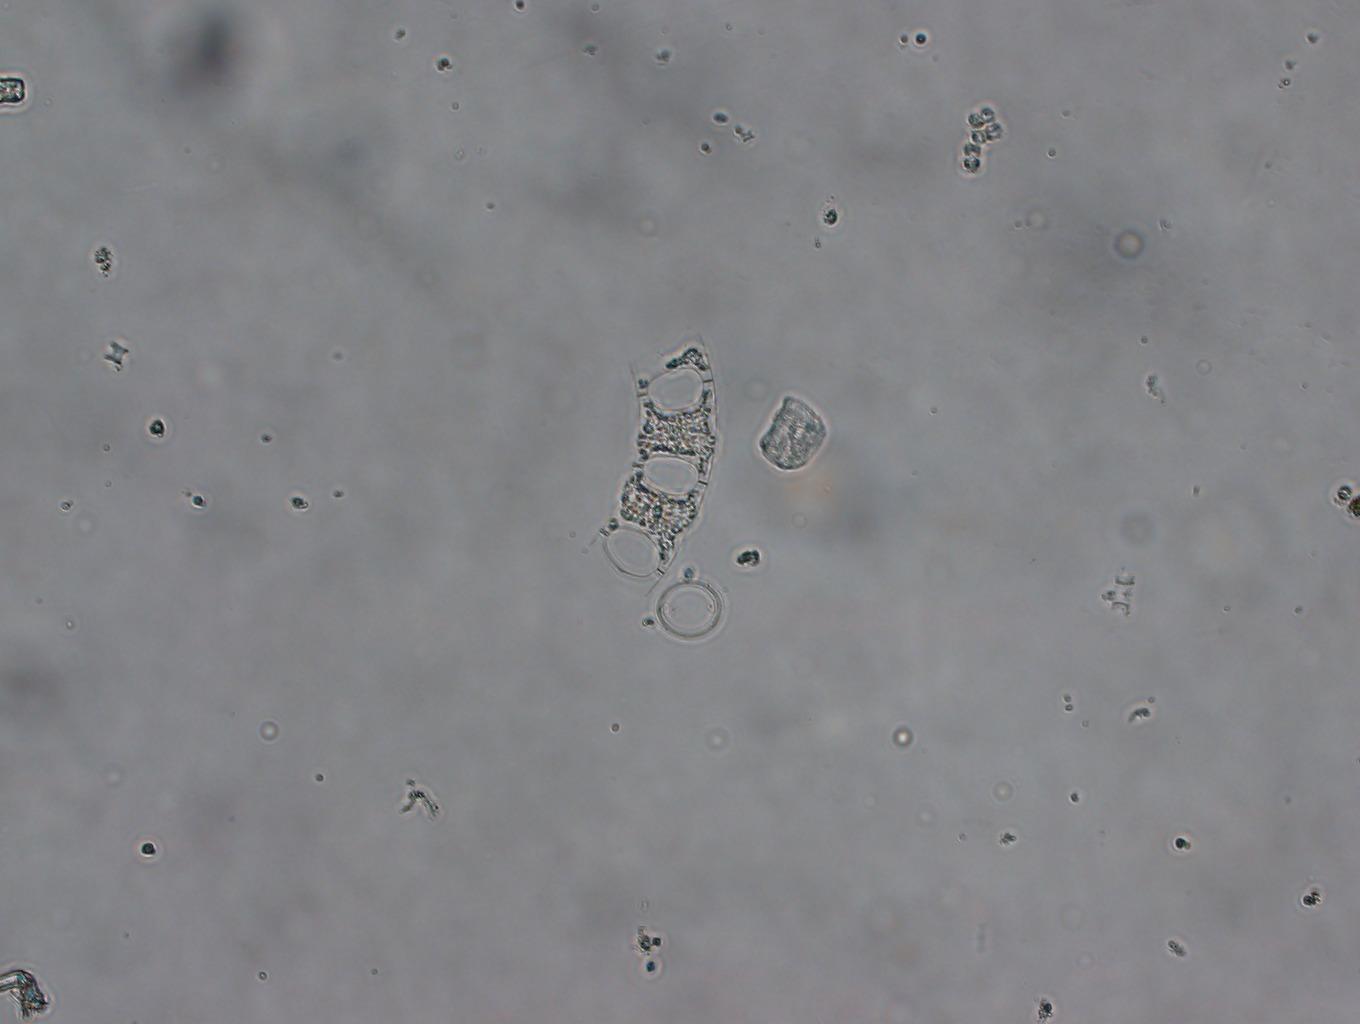eucampia: (579, 316, 726, 593)
